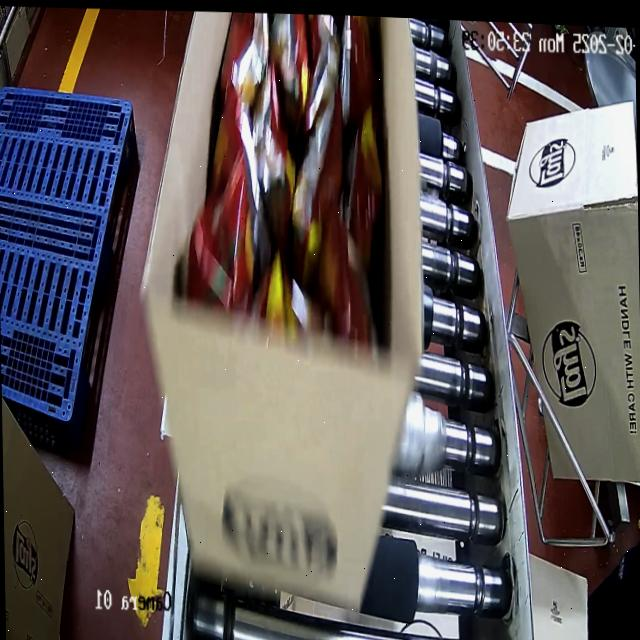MASALA: (199, 9, 378, 355)
